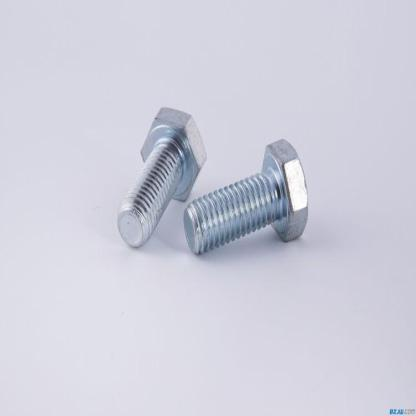FOD: (182, 136, 310, 256), (115, 103, 207, 251)
